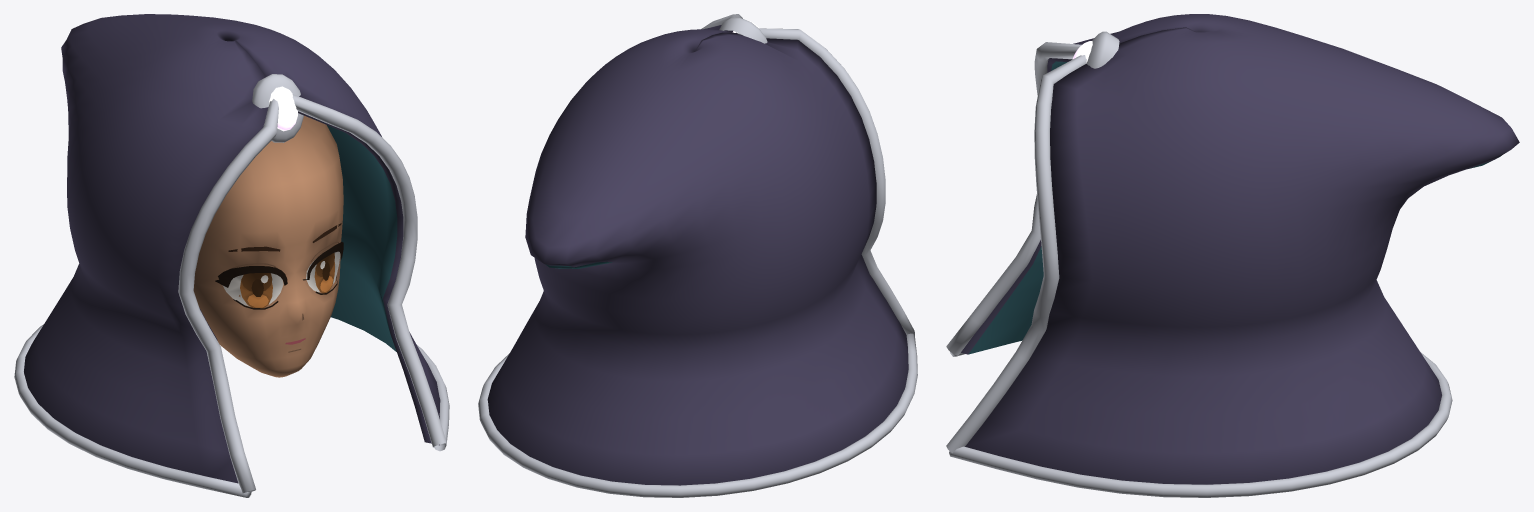
Rendered from h_oracle_f.glb.
3 renders of one model, left to right at view 1: azimuth 30°, elevation 25°; view 2: azimuth 150°, elevation 25°; view 3: azimuth 270°, elevation 25°, orthographic. The views are drawn at different scales.
Parts seen in each view (by area): view 1: Hood, HeadMesh, LashR, EyeWhiteR; view 2: Hood; view 3: Hood.
Boxes of the visible parts, x1,y1,x2,y2 form: Hood: (14, 14, 449, 497); HeadMesh: (193, 115, 343, 377); LashR: (215, 266, 287, 309); EyeWhiteR: (222, 273, 283, 306); Hood: (478, 14, 917, 497); Hood: (946, 14, 1519, 497).
Size of the model in its own units: 0.3768 by 0.3547 by 0.4861.
